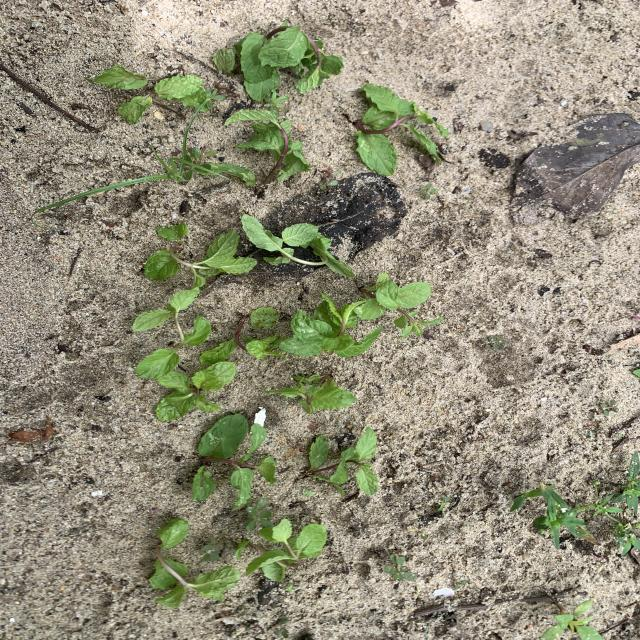crop: (214, 25, 343, 99), (355, 84, 446, 175), (86, 66, 224, 124), (149, 519, 239, 606), (195, 413, 275, 506), (133, 287, 211, 379), (144, 230, 257, 288), (242, 217, 354, 275), (277, 294, 381, 355), (229, 110, 310, 180), (303, 428, 378, 496), (245, 519, 327, 580), (200, 308, 282, 365), (156, 363, 235, 419), (345, 273, 431, 318), (267, 375, 355, 413), (394, 287, 443, 337), (542, 600, 602, 639), (156, 223, 189, 244)
weed: (511, 463, 640, 564), (45, 152, 192, 210), (613, 520, 639, 555), (582, 493, 620, 515), (383, 555, 416, 580), (246, 499, 271, 530), (199, 536, 225, 559), (188, 148, 215, 162), (481, 335, 506, 348), (269, 93, 287, 111), (420, 183, 438, 199), (236, 540, 250, 558), (600, 401, 617, 415), (437, 497, 449, 513), (319, 180, 338, 190), (276, 630, 287, 639), (276, 618, 288, 625), (303, 489, 314, 495), (285, 584, 294, 591), (633, 369, 639, 376)
